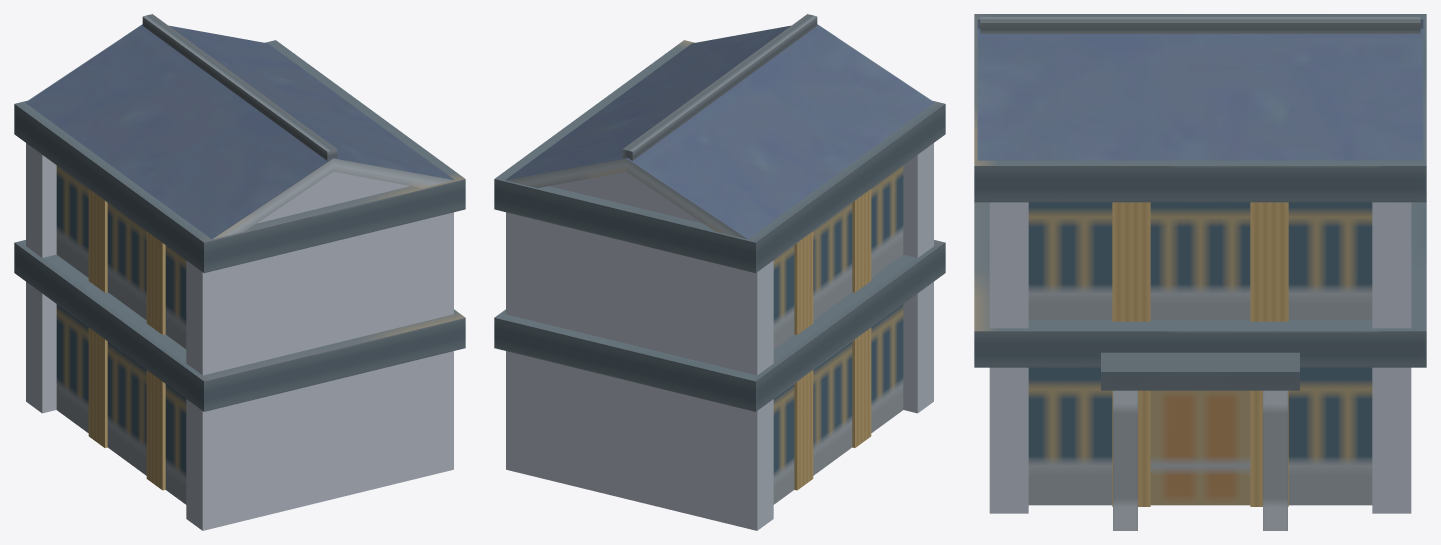
File: Coach_Building_Residential_L3_01_Mod.fbx
The picture shows the model from 3 angles, left to right: view 1: azimuth 30°, elevation 25°; view 2: azimuth 150°, elevation 25°; view 3: azimuth 270°, elevation 25°; orthographic projection. The views are drawn at different scales.
Parts seen in each view (by area): view 1: Coach_Building_Residential_L3_01_Mod; view 2: Coach_Building_Residential_L3_01_Mod; view 3: Coach_Building_Residential_L3_01_Mod.
Part boxes in pixels (x1,y1,x2,y2): Coach_Building_Residential_L3_01_Mod: [14, 14, 465, 530]; Coach_Building_Residential_L3_01_Mod: [494, 14, 945, 530]; Coach_Building_Residential_L3_01_Mod: [974, 14, 1426, 530].
Size of the model in its own units: 715 by 818 by 798.
